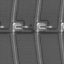dust: (29, 23, 33, 27)
